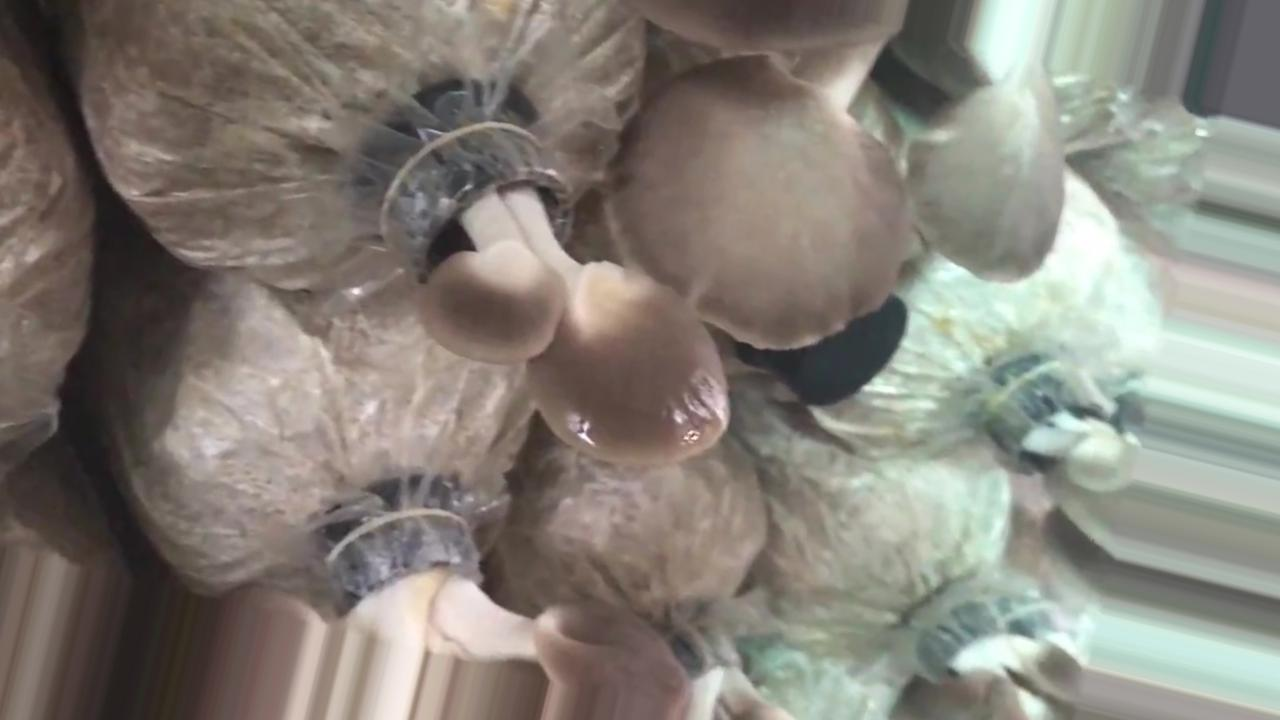nam: (596, 1, 1066, 353), (377, 117, 730, 471), (211, 500, 693, 720), (632, 606, 792, 720), (924, 607, 1082, 720), (991, 364, 1131, 489)
